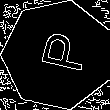P_W: (28, 31, 87, 79)
